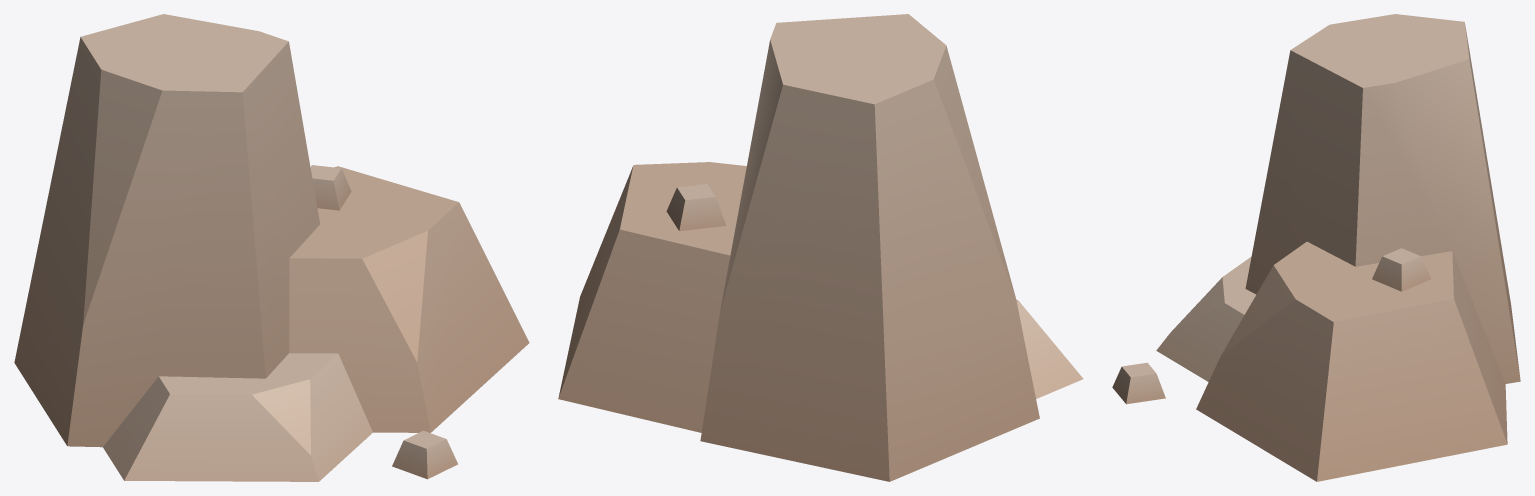
File: rock-sand-a.glb
The picture shows the model from 3 angles, left to right: view 1: azimuth 30°, elevation 25°; view 2: azimuth 150°, elevation 25°; view 3: azimuth 270°, elevation 25°; orthographic projection. The views are drawn at different scales.
Parts seen in each view (by area): view 1: rock-sand-a; view 2: rock-sand-a; view 3: rock-sand-a.
Boxes of the visible parts, x1=… form: rock-sand-a: x1=14, y1=14, x2=529, y2=481; rock-sand-a: x1=558, y1=14, x2=1083, y2=481; rock-sand-a: x1=1112, y1=14, x2=1520, y2=481.
Bounding box in the file's own units: 0.5552 × 0.3927 × 0.4845.
